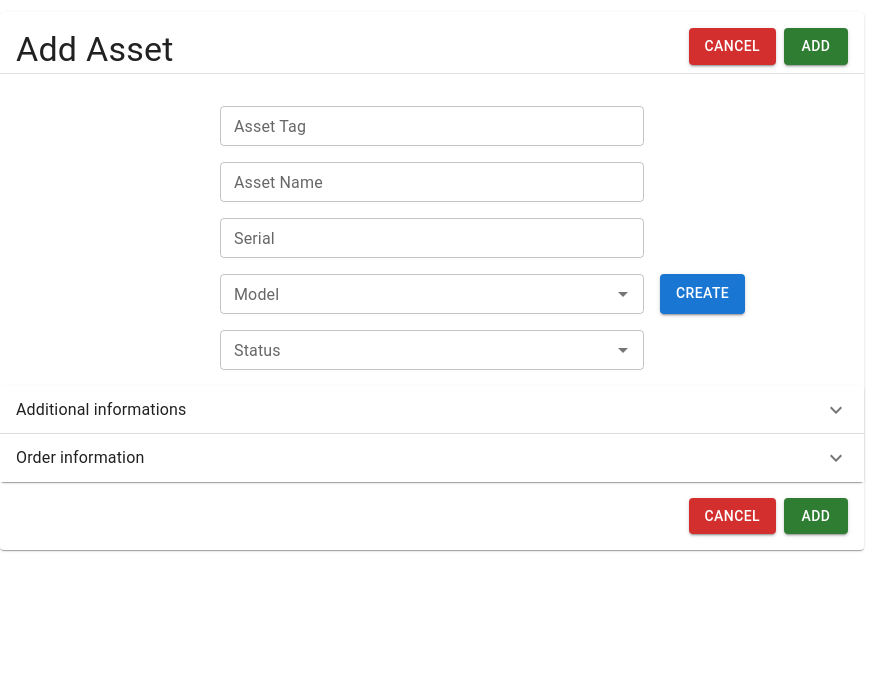
Test: AddAsset form › should display error messages
What coordinates should you click on to do the following:
click the 1st button "Add"
I would click on:
 (816, 46)
Its box is [784, 28, 848, 64].
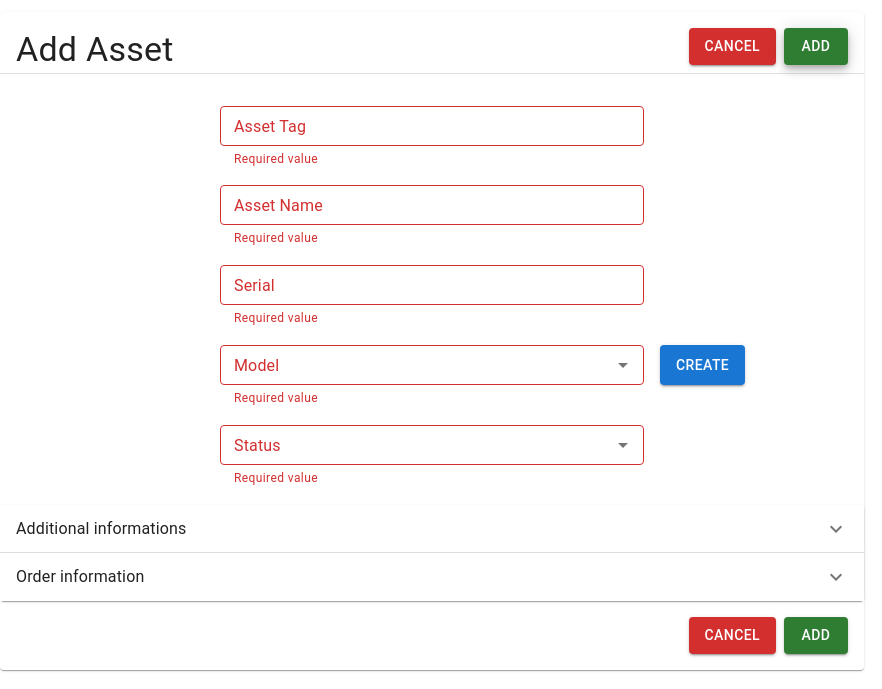
Check: the text "Required value" below "Asset Tag" is shown, box [234, 152, 318, 166]
